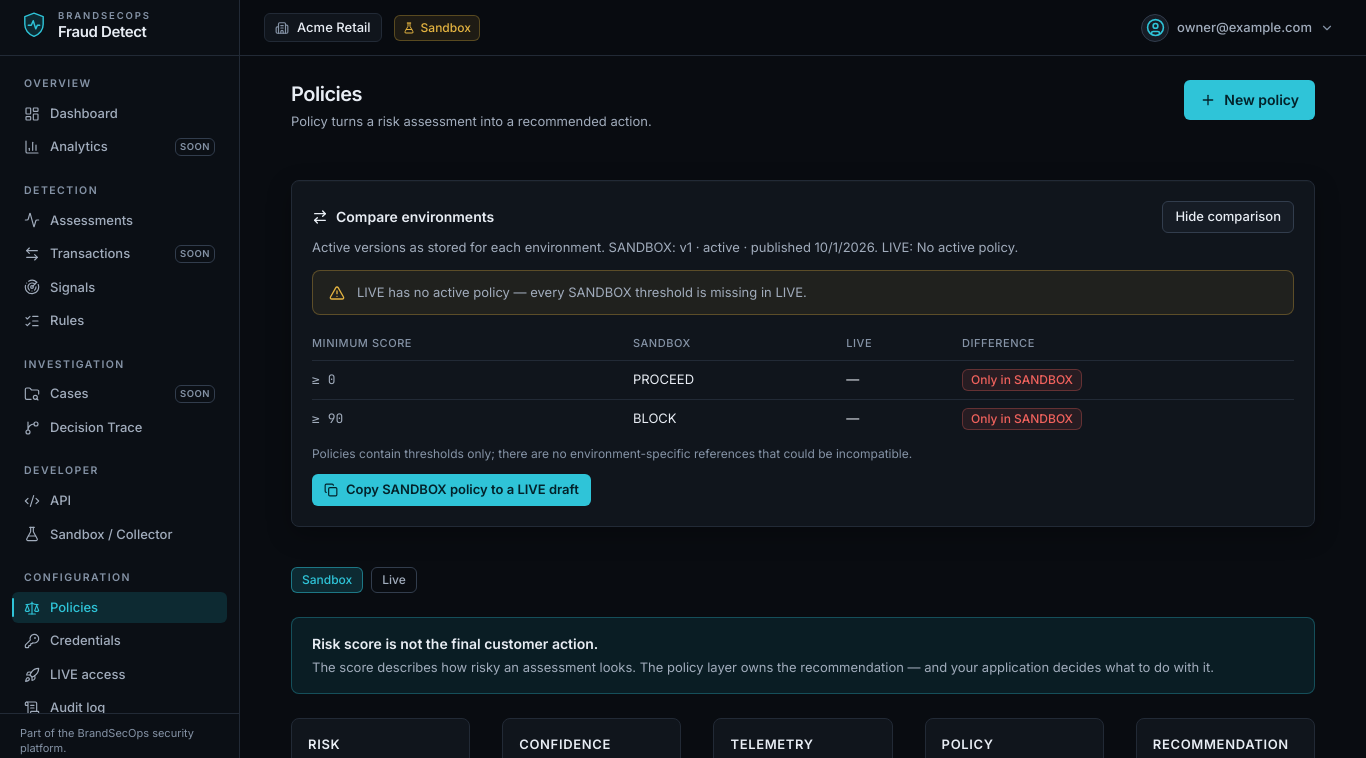
Test: Compare environments › compares the persisted active versions and copies SANDBOX into a LIVE draft without activating
The image size is (1366, 758).
Check: the text "LIVE has no active policy" is shown, box left=357, top=284, right=807, bottom=300
Check: the text "Only in SANDBOX" is shown 2 times, box left=962, top=369, right=1082, bottom=391; left=962, top=408, right=1082, bottom=430
Click the button "Copy SANDBOX policy to a LIVE draft" at (451, 490), box left=312, top=474, right=591, bottom=506
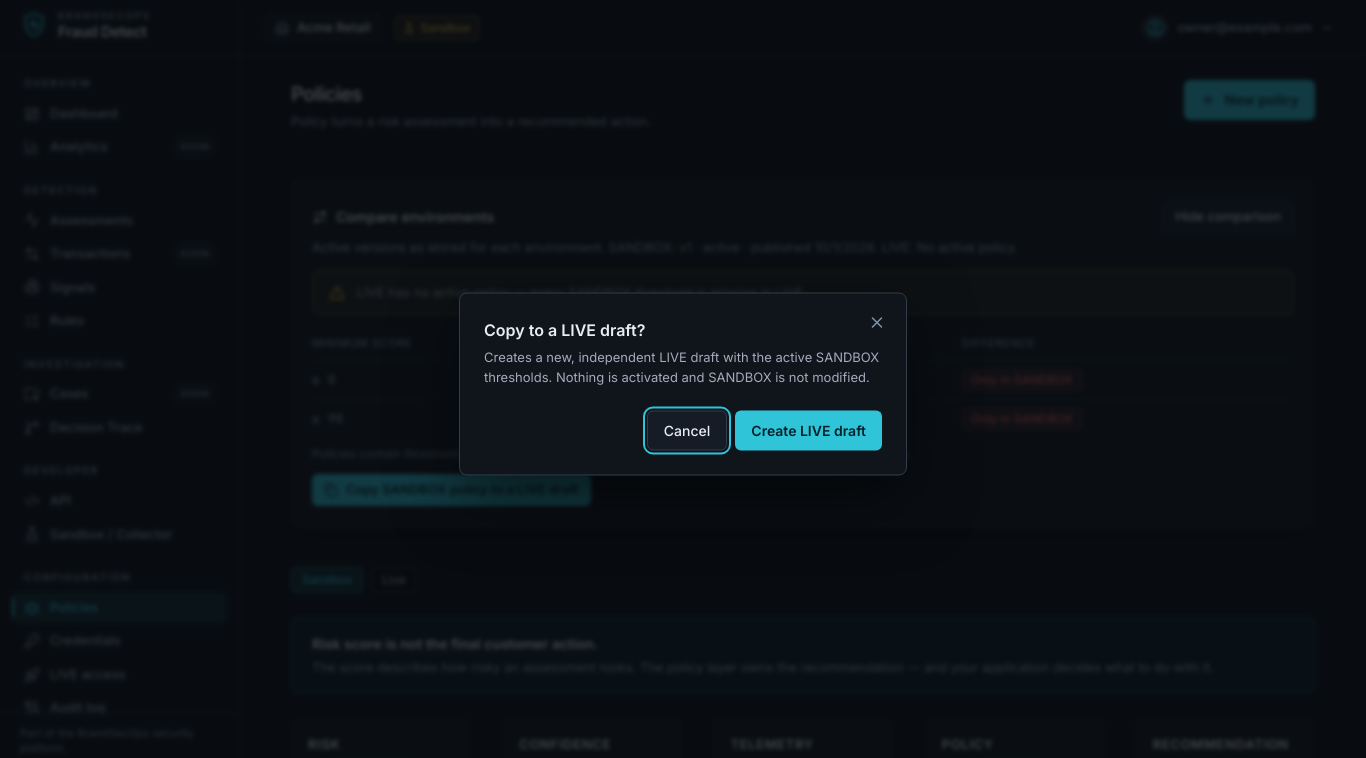
Click the button "Create LIVE draft" at (809, 430), box left=735, top=410, right=882, bottom=450
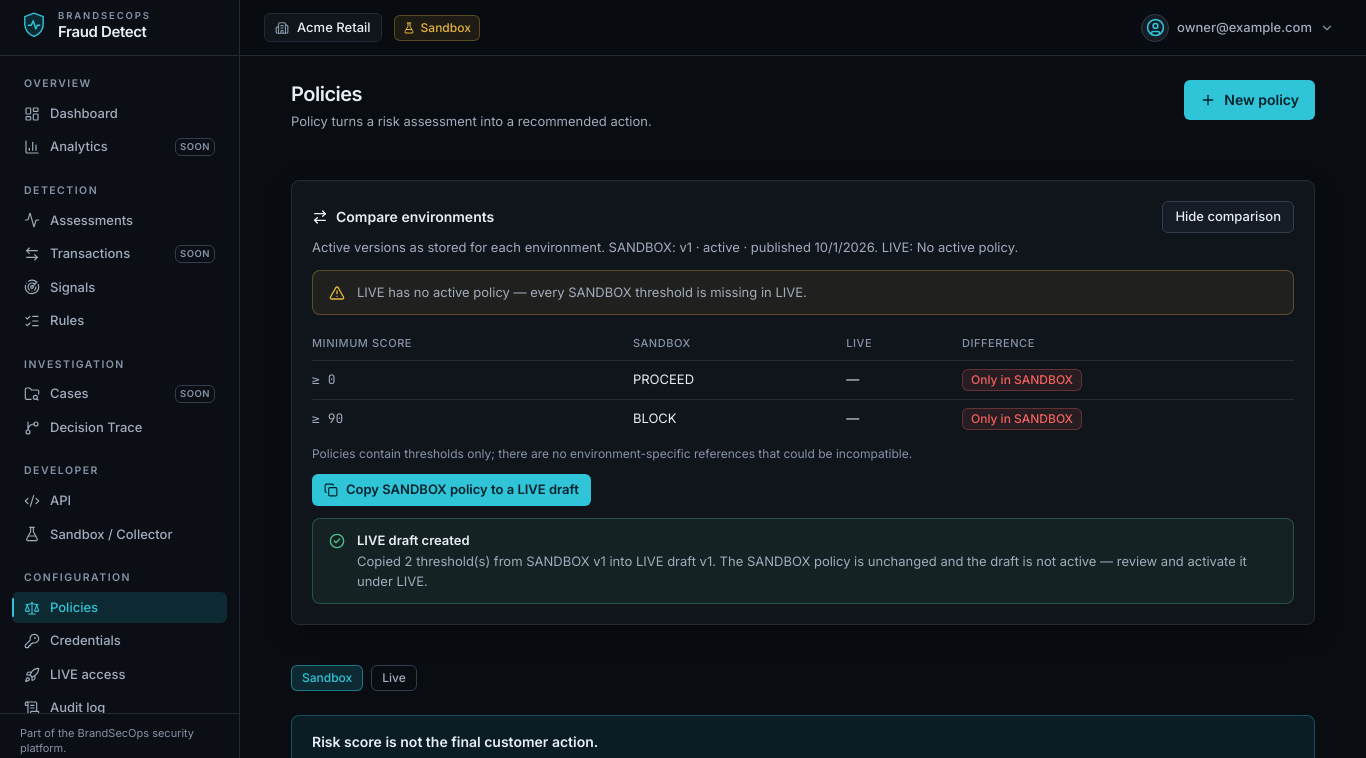
Check: the text "The SANDBOX policy is unchanged and the draft is not active" is shown, box left=357, top=553, right=1247, bottom=589
